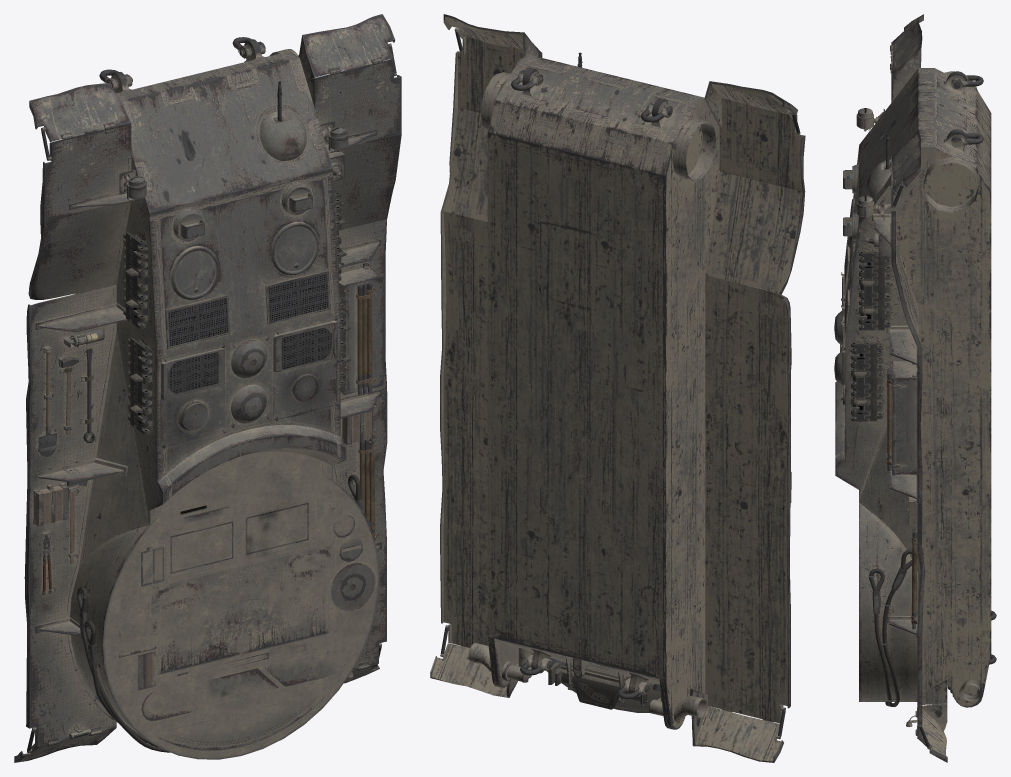
Rendered from Hull.glb.
3 views of the same model, side by side, from view 1: azimuth 30°, elevation 25°; view 2: azimuth 150°, elevation 25°; view 3: azimuth 270°, elevation 25° (orthographic). The views are drawn at different scales.
Parts seen in each view (by area): view 1: set_0_group_0; view 2: set_0_group_0; view 3: set_0_group_0.
Part boxes in pixels (x1,y1,x2,y2): set_0_group_0: (14, 14, 401, 762); set_0_group_0: (430, 14, 805, 762); set_0_group_0: (834, 14, 996, 762).
Size of the model in its own units: 3.94 by 7.11 by 1.72.
1 material, 1 textured.
